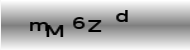6: (71, 16, 85, 29)
M: (44, 24, 64, 38)
Z: (86, 19, 101, 32)
d: (115, 8, 129, 22)
m: (28, 21, 50, 32)
